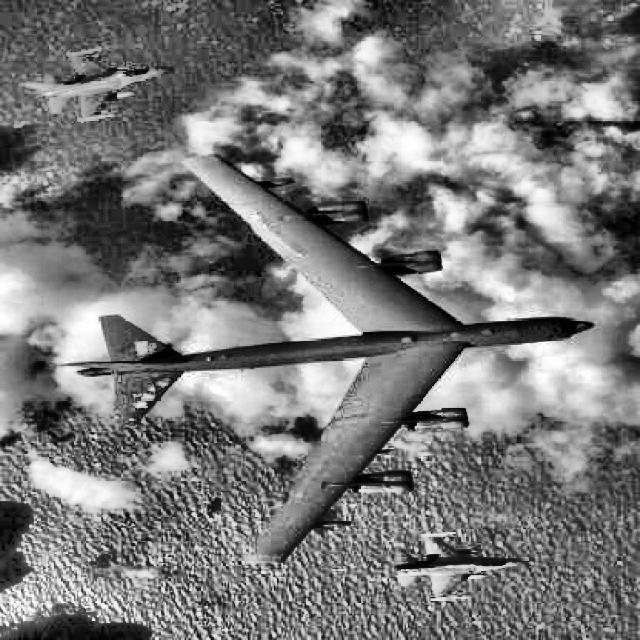B52: (55, 153, 596, 564)
F16: (18, 47, 176, 124), (388, 532, 532, 600)
